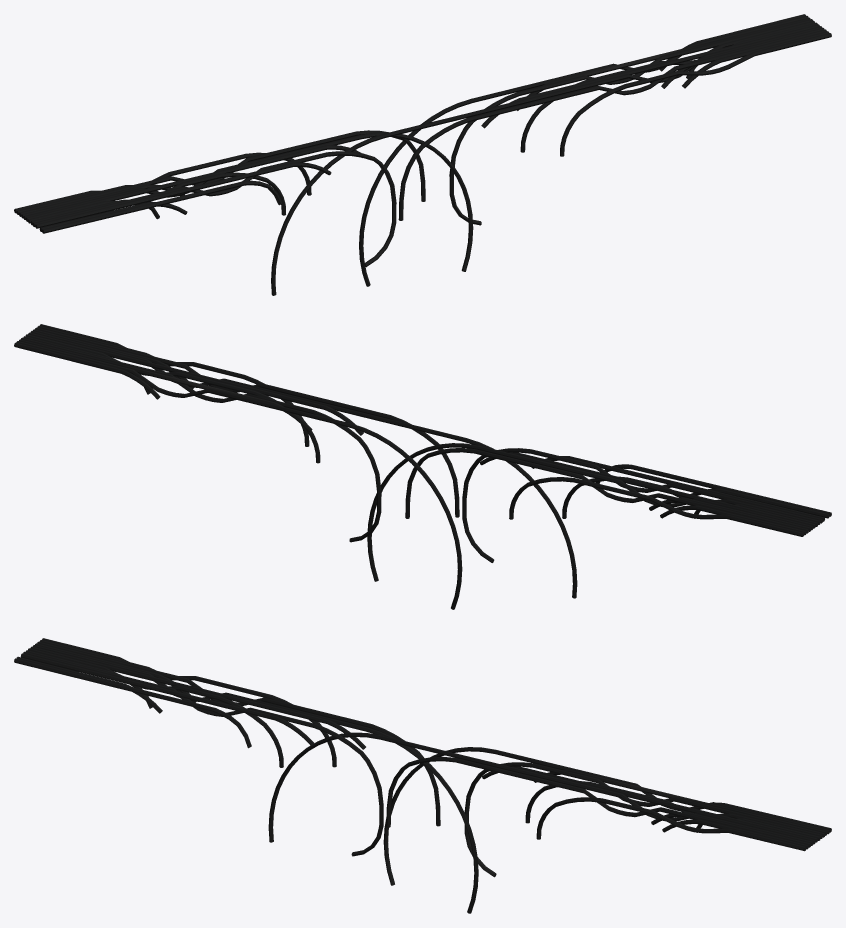
Rendered from Cables.fbx.
The picture shows the model from 3 angles, top to bottom: view 1: azimuth 30°, elevation 25°; view 2: azimuth 150°, elevation 25°; view 3: azimuth 330°, elevation 25°; orthographic projection.
Parts seen in each view (by area): view 1: Cables; view 2: Cables; view 3: Cables.
Part boxes in pixels (x1=…): Cables: x1=14, y1=14, x2=831, y2=295; Cables: x1=14, y1=324, x2=831, y2=609; Cables: x1=14, y1=638, x2=831, y2=913.
Bounding box in the file's own units: 1000 × 196 × 71.14.
